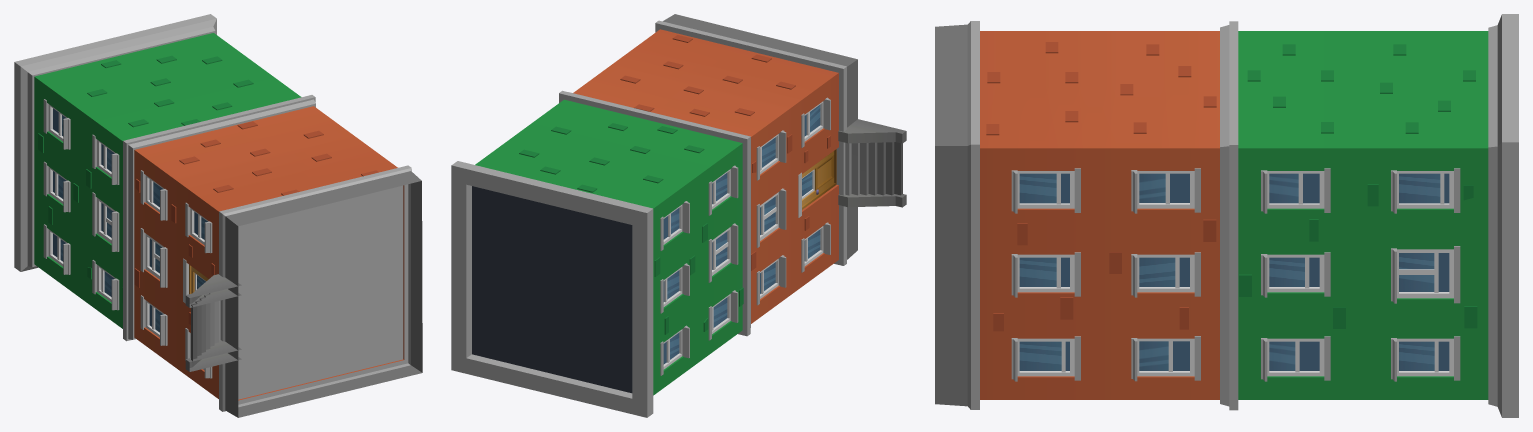
The model's file is Building_2_8_F.fbx.
3 renders of one model, left to right at view 1: azimuth 30°, elevation 25°; view 2: azimuth 150°, elevation 25°; view 3: azimuth 270°, elevation 25°, orthographic. The views are drawn at different scales.
Parts seen in each view (by area): view 1: Building_2_8_F; view 2: Building_2_8_F; view 3: Building_2_8_F.
Part boxes in pixels (x1,y1,x2,y2): Building_2_8_F: (14, 14, 422, 417); Building_2_8_F: (451, 14, 906, 417); Building_2_8_F: (935, 14, 1518, 417).
Bounding box in the file's own units: 754 × 620 × 1191.
